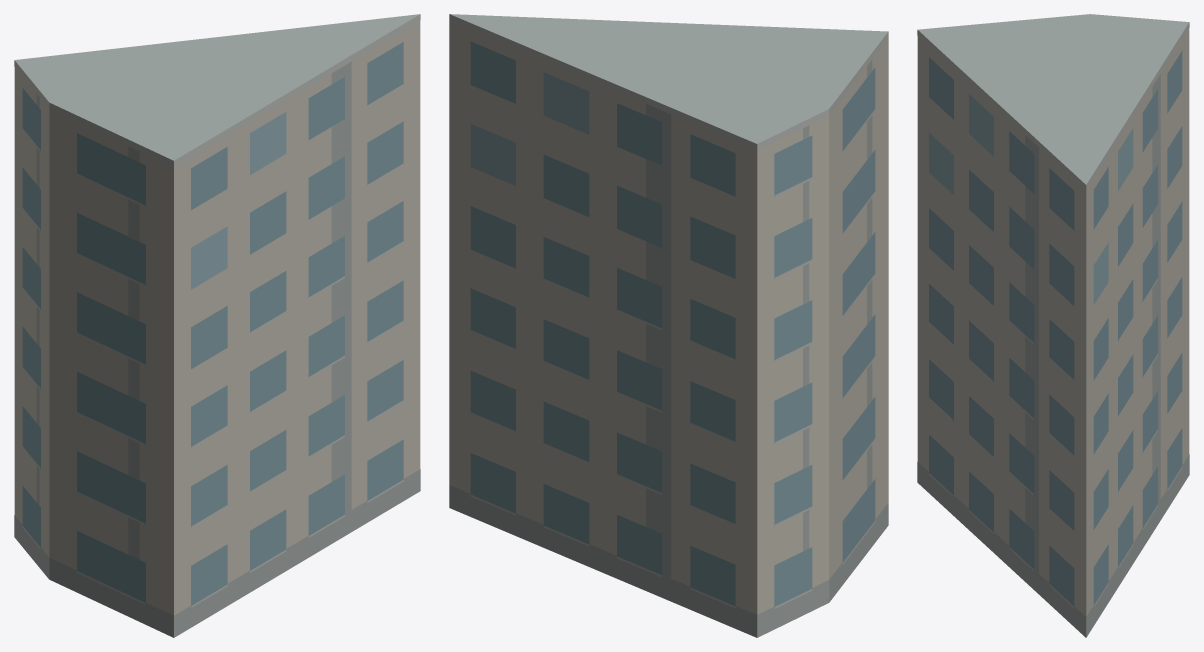
File: survey-upis-32752815.glb
The picture shows the model from 3 angles, left to right: view 1: azimuth 30°, elevation 25°; view 2: azimuth 150°, elevation 25°; view 3: azimuth 270°, elevation 25°; orthographic projection. The views are drawn at different scales.
Parts seen in each view (by area): view 1: survey-upis-32752815.tmp; view 2: survey-upis-32752815.tmp; view 3: survey-upis-32752815.tmp.
Part boxes in pixels (<box>): survey-upis-32752815.tmp: <box>14,14,420,637</box>; survey-upis-32752815.tmp: <box>449,14,888,637</box>; survey-upis-32752815.tmp: <box>917,14,1189,637</box>.
Bounding box in the file's own units: 14.82 × 18.3 × 9.96.
